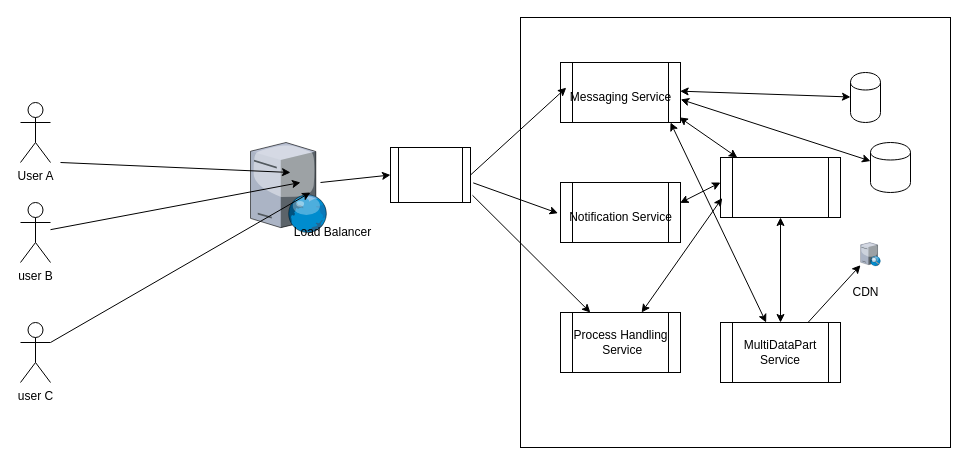
This 968x465 diagram has some shape labels left out. Each missing label, with the centre of its shape:
API Gateway: the point at 430,174
Cache: the point at 890,167
DB: the point at 865,97
Service Discovery: the point at 780,187
